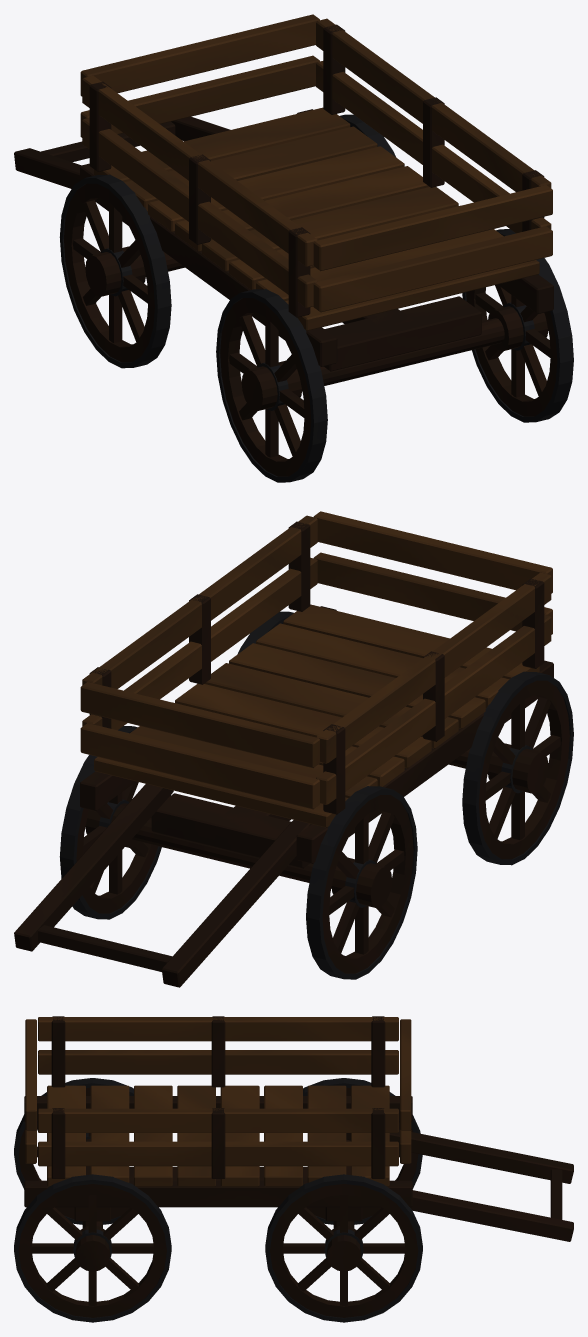
File: wooden_cart.glb
3 views of the same model, one above another, from view 1: azimuth 30°, elevation 25°; view 2: azimuth 150°, elevation 25°; view 3: azimuth 270°, elevation 25° (orthographic). The views are drawn at different scales.
Visible parts, largest first — view 1: CartBody, WheelAssembly; view 2: CartBody, WheelAssembly; view 3: CartBody, WheelAssembly.
Part boxes in pixels (x1,y1,x2,y2): CartBody: [14, 14, 553, 391]; WheelAssembly: [59, 114, 573, 482]; CartBody: [14, 511, 553, 987]; WheelAssembly: [59, 611, 573, 979]; CartBody: [24, 1016, 573, 1241]; WheelAssembly: [14, 1078, 422, 1322].
Bounding box in the file's own units: 1.16 × 1 × 2.45.
Materials: 3 (3 with a texture image).
